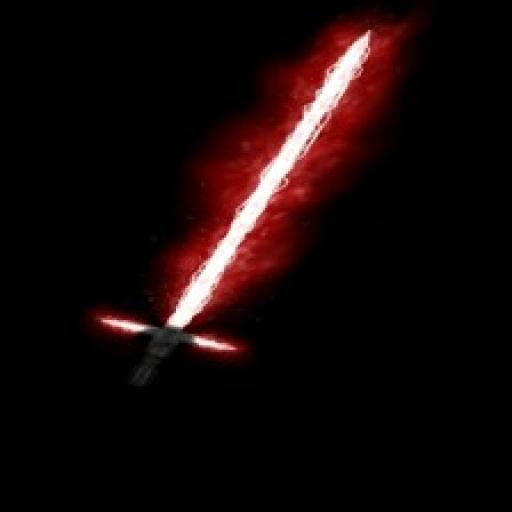sith saber: (93, 9, 396, 412)
